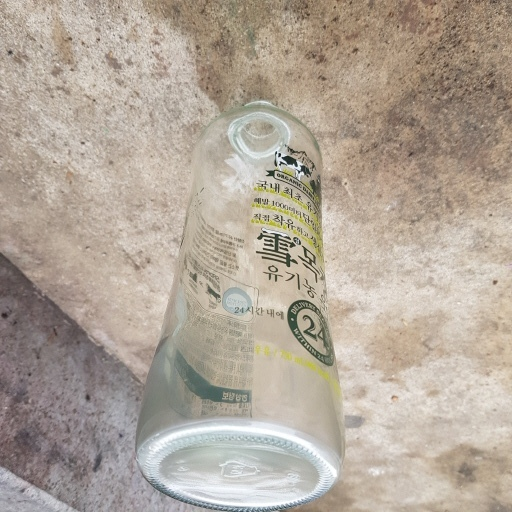Glass_4: (137, 97, 347, 507)
